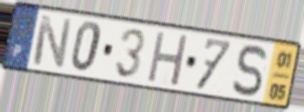0: (68, 20, 102, 74)
3: (114, 27, 147, 80)
7: (194, 36, 233, 93)
H: (145, 29, 191, 89)
N: (30, 13, 74, 71)
S: (230, 43, 269, 99)
